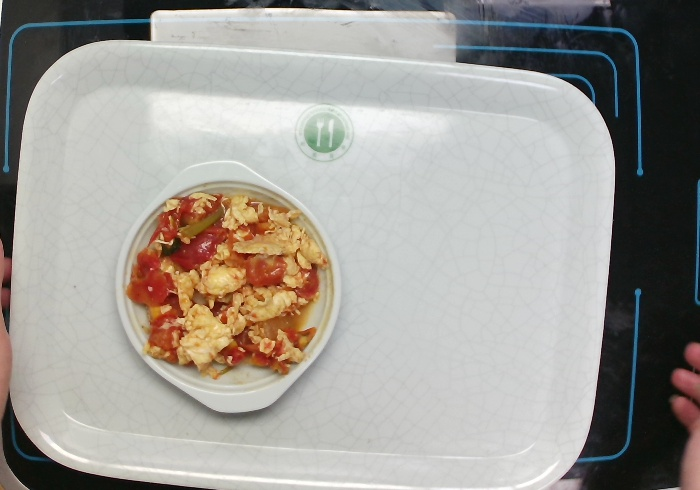JYsf-Shuang_Er_Pan: (112, 157, 343, 415)
